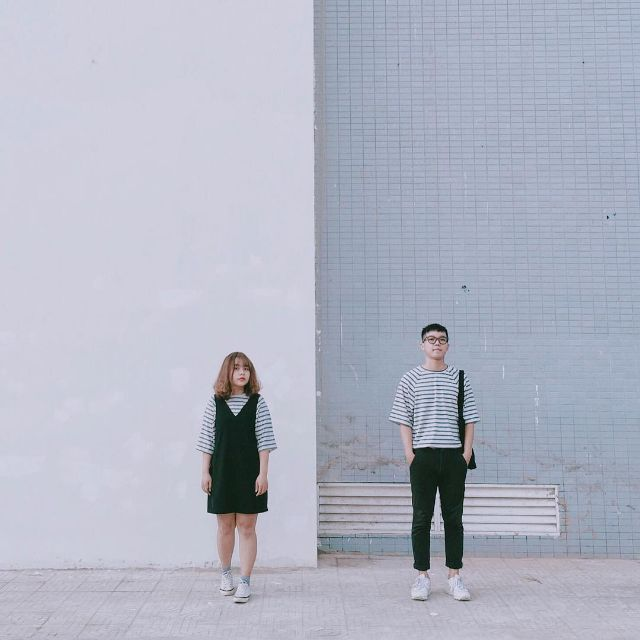person: (397, 323, 479, 602), (201, 352, 274, 604)
